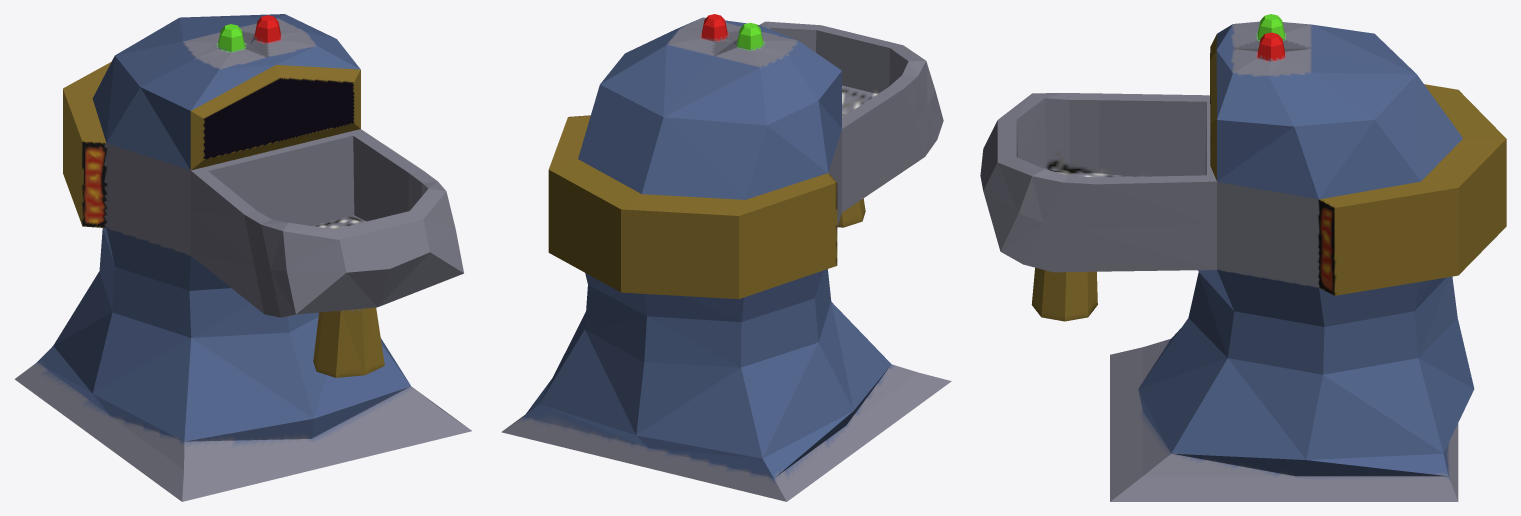
File: Suqueira.fbx
3 renders of one model, left to right at view 1: azimuth 30°, elevation 25°; view 2: azimuth 150°, elevation 25°; view 3: azimuth 270°, elevation 25°, orthographic. The views are drawn at different scales.
Parts seen in each view (by area): view 1: Suqueira; view 2: Suqueira; view 3: Suqueira.
Part boxes in pixels (x1,y1,x2,y2): Suqueira: (14,14,471,501); Suqueira: (501,14,951,501); Suqueira: (980,14,1506,501).
Size of the model in its own units: 206 by 262 by 311.
